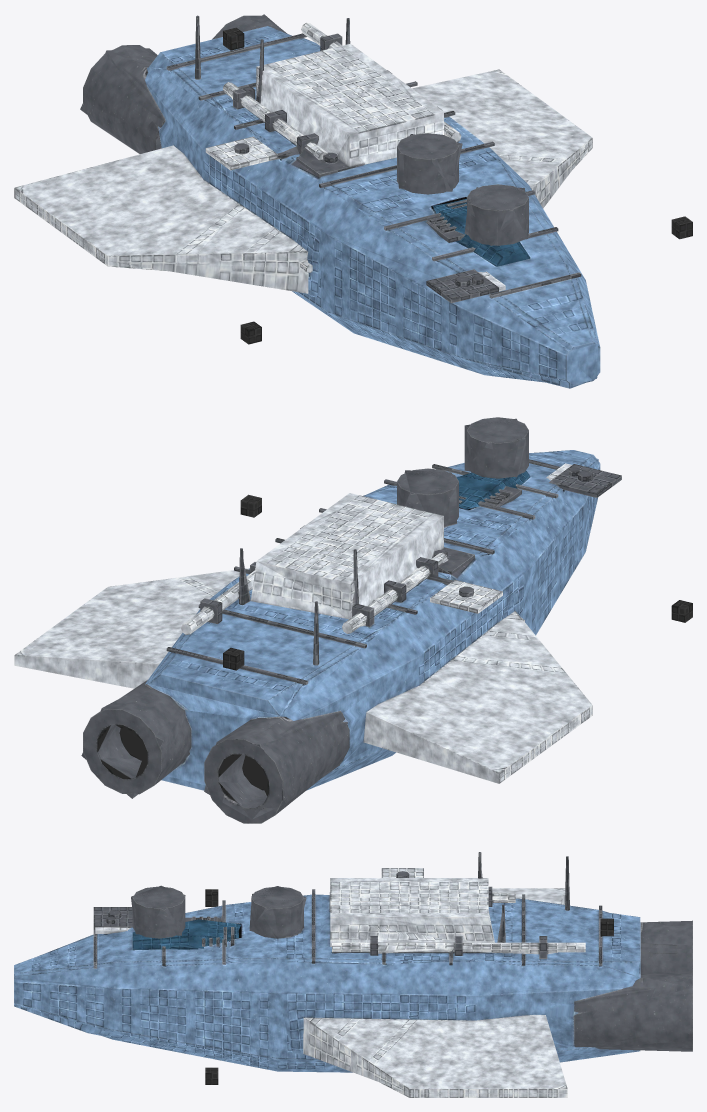
The model's file is sd_npc_corvette.glb.
The picture shows the model from 3 angles, top to bottom: view 1: azimuth 30°, elevation 25°; view 2: azimuth 150°, elevation 25°; view 3: azimuth 270°, elevation 25°; orthographic projection. The views are drawn at different scales.
Parts seen in each view (by area): view 1: LOD0_body, LOD1_body; view 2: LOD0_body, LOD1_body; view 3: LOD0_body, LOD1_body.
Boxes of the visible parts, <box> form: LOD0_body: <box>14,15,692,385</box>; LOD1_body: <box>14,14,598,388</box>; LOD0_body: <box>14,417,692,823</box>; LOD1_body: <box>81,418,598,819</box>; LOD0_body: <box>14,852,692,1097</box>; LOD1_body: <box>14,867,692,1093</box>.
Size of the model in its own units: 0.7003 by 0.2751 by 1.
1 material, 1 textured.
